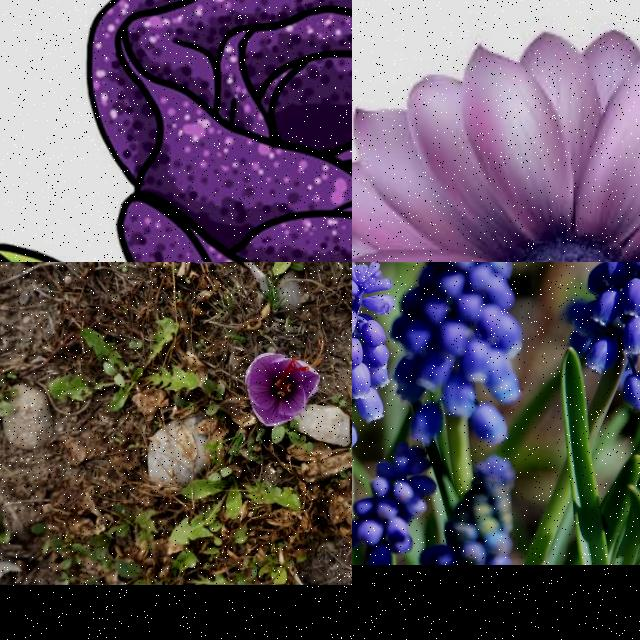flower: (244, 351, 322, 427)
